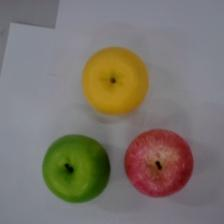green: (42, 134, 111, 202)
red: (125, 129, 194, 197)
yellow: (83, 47, 149, 116)
